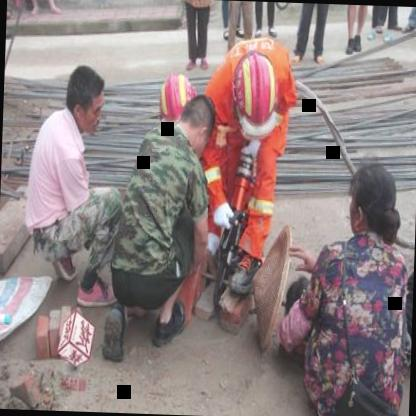helmet: (228, 48, 282, 132), (156, 70, 200, 127)
